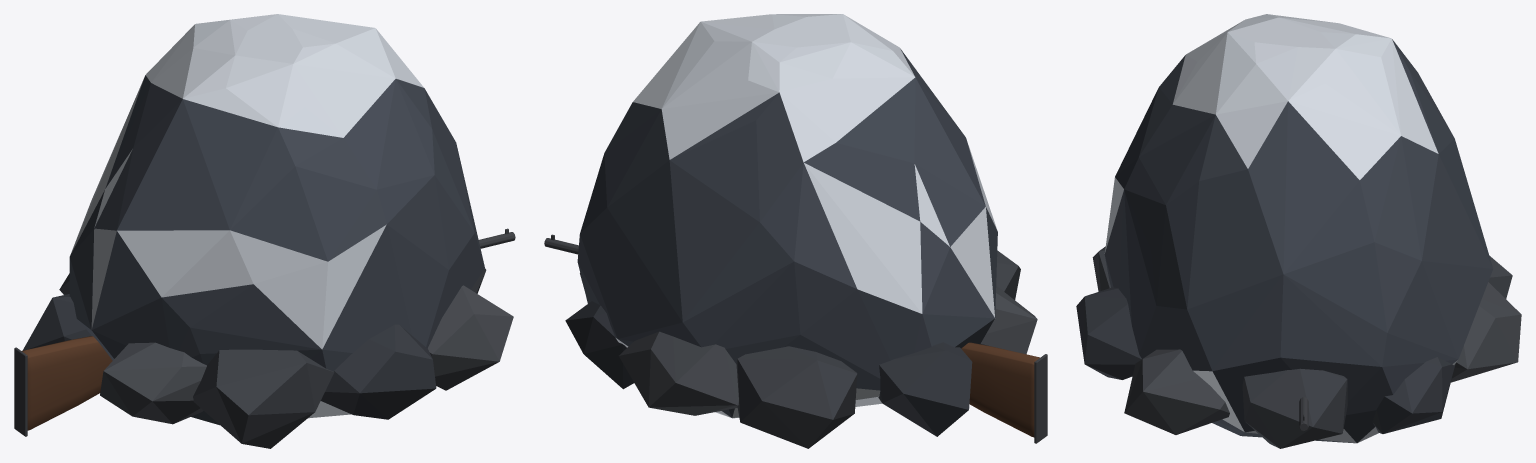
Rendered from survivals.glb.
The picture shows the model from 3 angles, left to right: view 1: azimuth 30°, elevation 25°; view 2: azimuth 150°, elevation 25°; view 3: azimuth 270°, elevation 25°; orthographic projection.
Parts seen in each view (by area): view 1: SnowRock, Campfire, Rifle; view 2: SnowRock, Campfire, Rifle; view 3: SnowRock, Campfire.
Boxes of the visible parts, bbox=[...] form: SnowRock: bbox=[69, 14, 484, 425]; Campfire: bbox=[22, 268, 513, 448]; Rifle: bbox=[14, 228, 515, 436]; SnowRock: bbox=[577, 14, 997, 418]; Campfire: bbox=[565, 250, 1037, 448]; Rifle: bbox=[544, 234, 1047, 443]; SnowRock: bbox=[1104, 14, 1493, 443]; Campfire: bbox=[1076, 246, 1521, 448].
Bounding box in the file's own units: 1.12 × 0.7424 × 0.8636.
